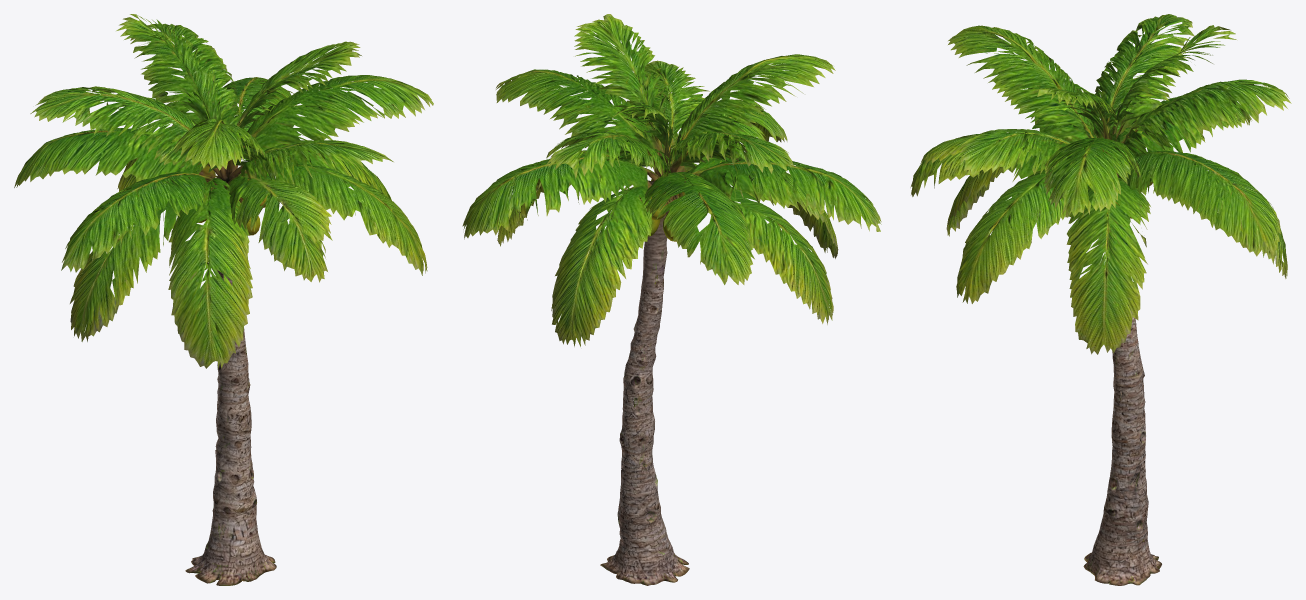
The picture shows the model from 3 angles, left to right: view 1: azimuth 30°, elevation 25°; view 2: azimuth 150°, elevation 25°; view 3: azimuth 270°, elevation 25°; orthographic projection. The views are drawn at different scales.
Parts seen in each view (by area): view 1: Object_4; view 2: Object_4; view 3: Object_4.
Part boxes in pixels (bbox=[...]): Object_4: bbox=[14, 14, 433, 585]; Object_4: bbox=[462, 14, 881, 585]; Object_4: bbox=[910, 14, 1291, 585].
Bounding box in the file's own units: 0.7657 × 1 × 0.6706.
1 material, 1 textured.
